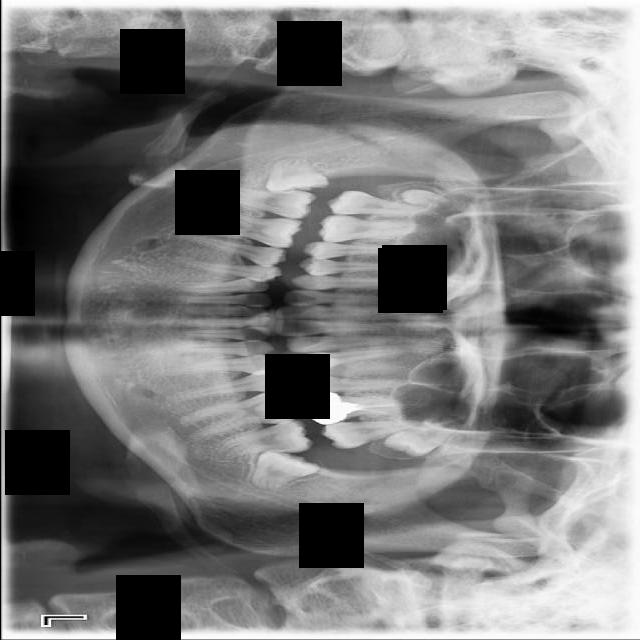3M ESPE Implant: (397, 184, 454, 213)
52: (300, 385, 356, 430)
73: (346, 395, 418, 420), (38, 606, 56, 612)
BioHorizons Implant: (319, 417, 423, 451)
BioLife Implant: (381, 411, 473, 467)
Biomet 3i Implant: (248, 442, 321, 506)
Blue Sky Bio Implant: (212, 418, 313, 460)
Caries: (325, 190, 431, 216)
Implant: (214, 181, 316, 221)
Keystone Dental Implant: (261, 149, 331, 200)
